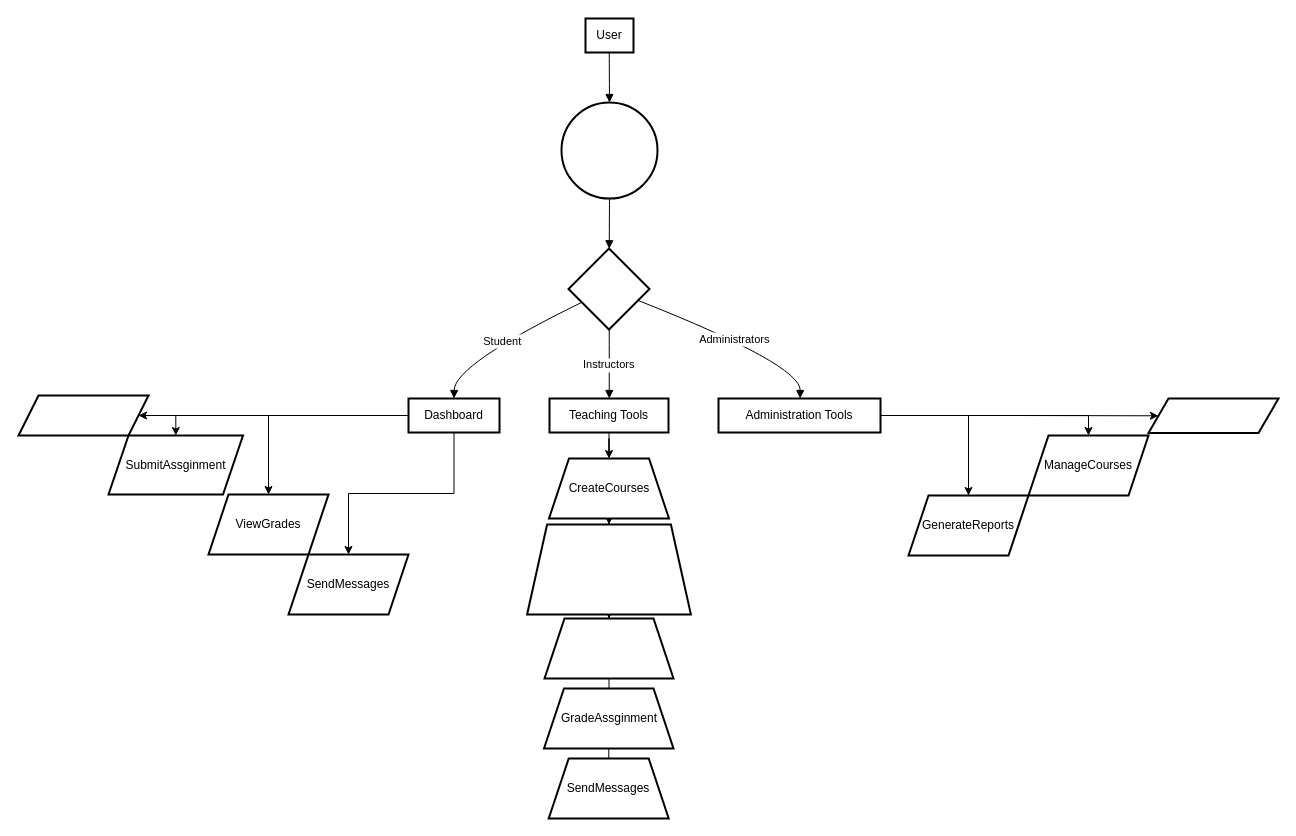
Image size: 1296x836. Some labels were removed from this diagram. Here are the shapes that lost their labels. From the top down, the centre of each, then its label:
At (x=609, y=150): "Blackboard".
At (x=608, y=288): "Role".
At (x=83, y=415): "Enroll In Courses".
At (x=1213, y=415): "ManageAccounts".
At (x=608, y=569): "ManageCourseConente".
At (x=608, y=648): "CreateAssignment".
